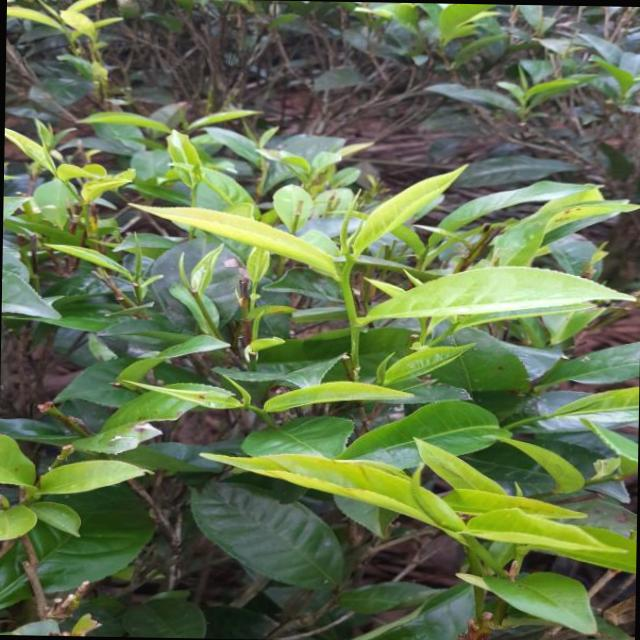Stem: (338, 272, 346, 283), (257, 408, 264, 414)
